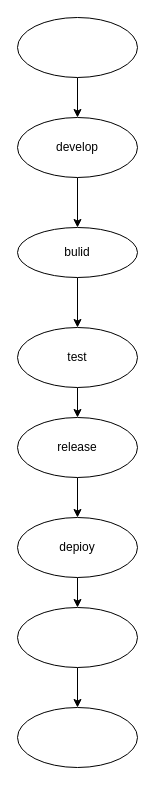
Image size: 155x785. Some labels were removed from this diagram. The centre of each missing label's shape, as x and y in pixels:
operate: [77,637]
plan: [77,47]
